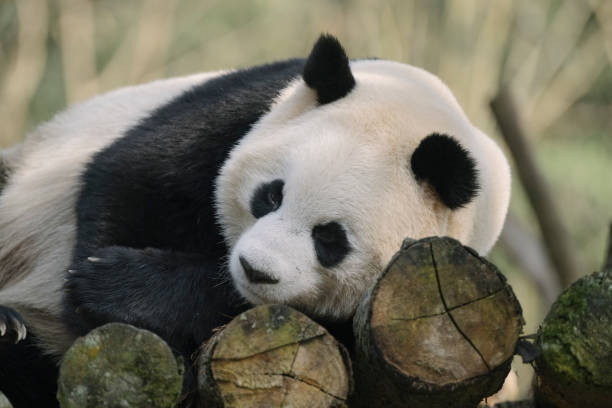panda: (200, 17, 486, 318)
